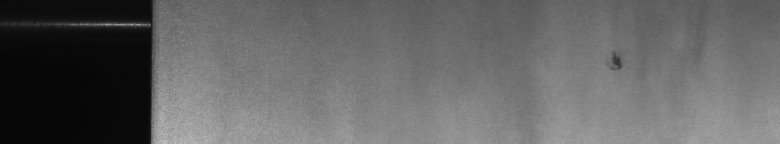fi: (604, 47, 628, 76)
